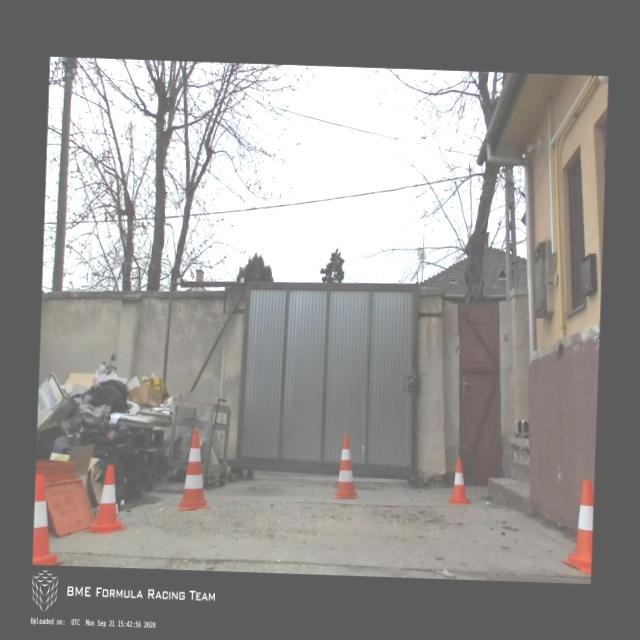large_orange_cone: (176, 428, 212, 512), (333, 434, 360, 498)
orange_cone: (560, 478, 594, 574), (32, 472, 66, 564), (84, 464, 128, 534), (446, 458, 473, 504)
